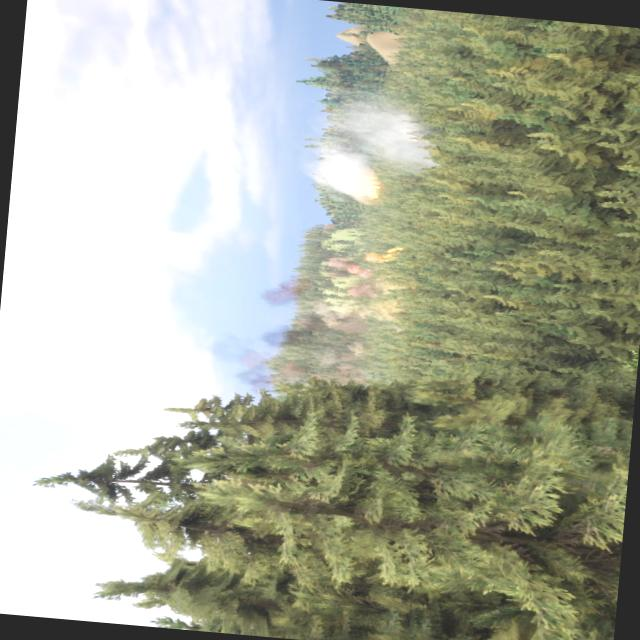fire: (343, 240, 408, 286), (364, 172, 384, 203)
smoke: (202, 226, 400, 395), (318, 101, 437, 167), (302, 138, 388, 202)
